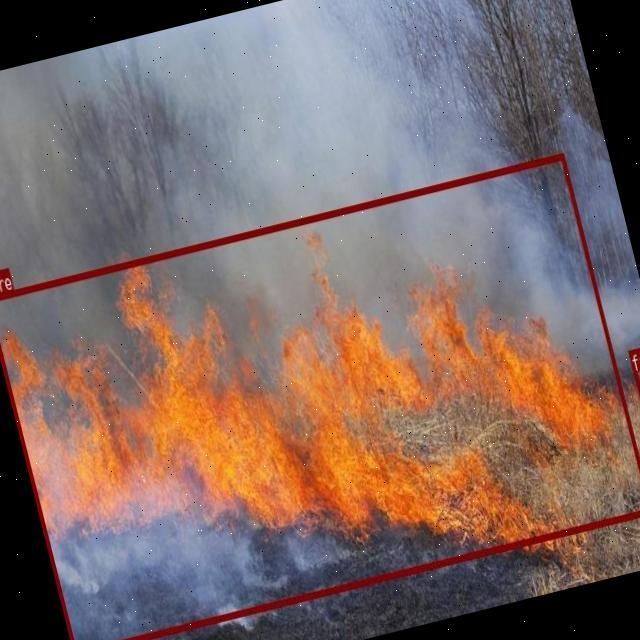fire: (0, 152, 640, 640), (627, 343, 640, 412)
